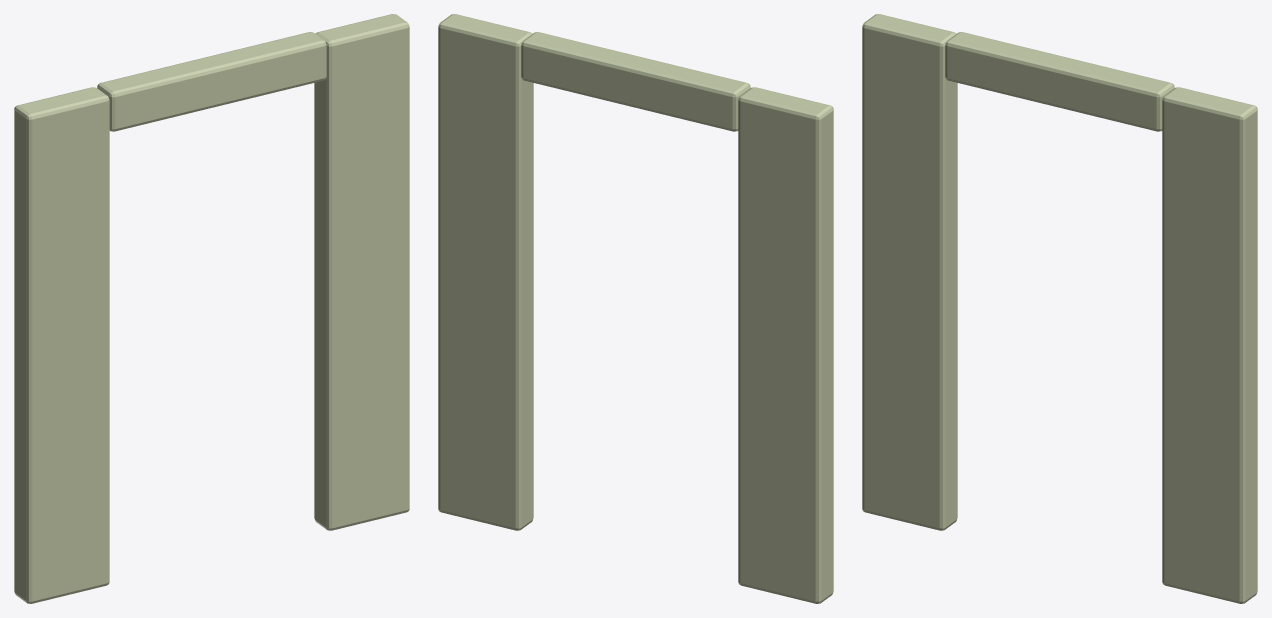
File: wall_passage_2m__finish.glb
The picture shows the model from 3 angles, left to right: view 1: azimuth 30°, elevation 25°; view 2: azimuth 150°, elevation 25°; view 3: azimuth 330°, elevation 25°; orthographic projection.
Parts seen in each view (by area): view 1: wall_passage_2m__finish__mesh_00; view 2: wall_passage_2m__finish__mesh_00; view 3: wall_passage_2m__finish__mesh_00.
Boxes of the visible parts, x1=… form: wall_passage_2m__finish__mesh_00: x1=14, y1=14, x2=409, y2=603; wall_passage_2m__finish__mesh_00: x1=438, y1=14, x2=833, y2=603; wall_passage_2m__finish__mesh_00: x1=862, y1=14, x2=1257, y2=603.
Bounding box in the file's own units: 1.8 × 2.21 × 0.13.
